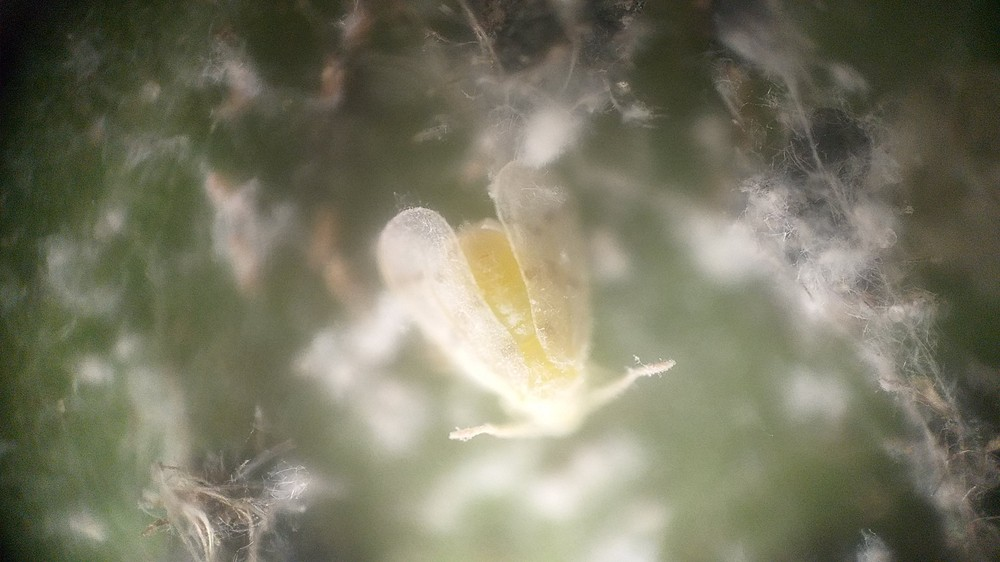Mosca Blanca: (372, 161, 686, 462)
